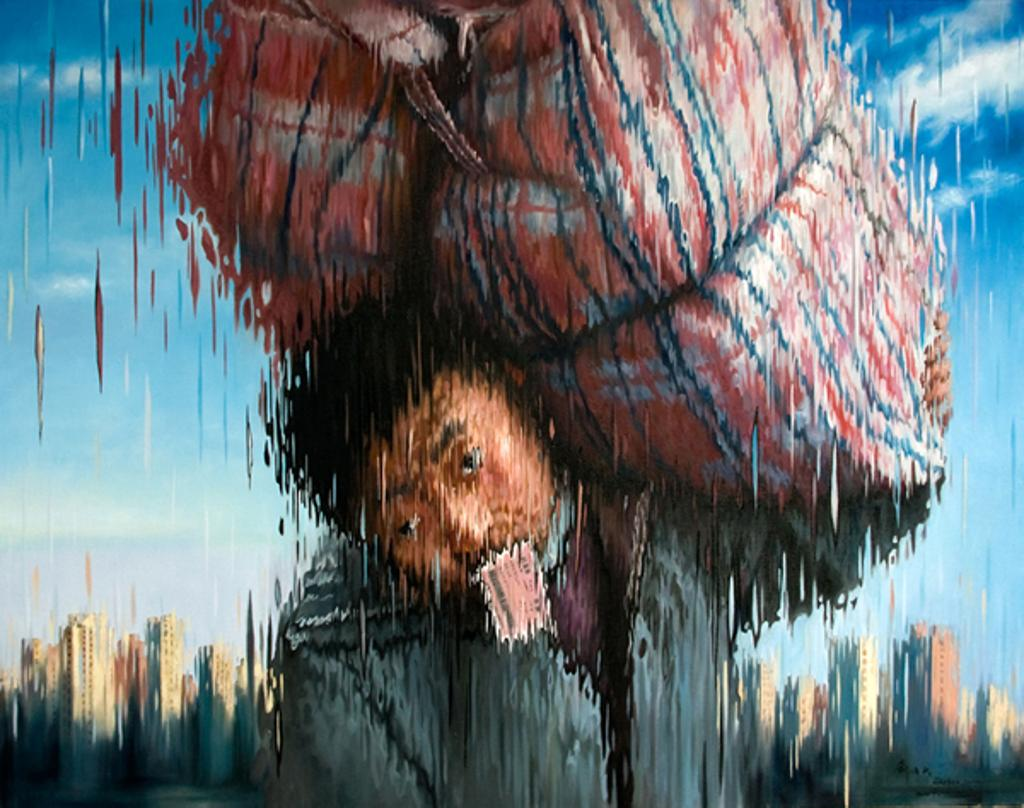face: (368, 380, 532, 596)
